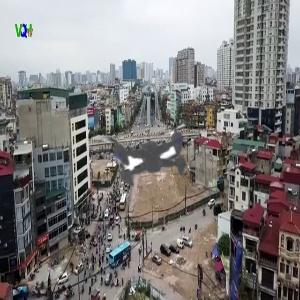drone: (68, 71, 245, 248)
